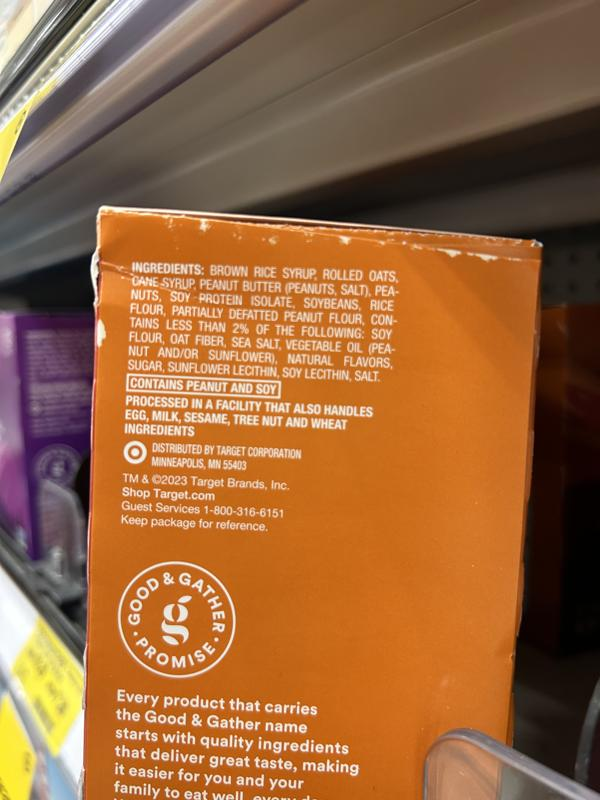ingredients: (123, 256, 400, 385)
